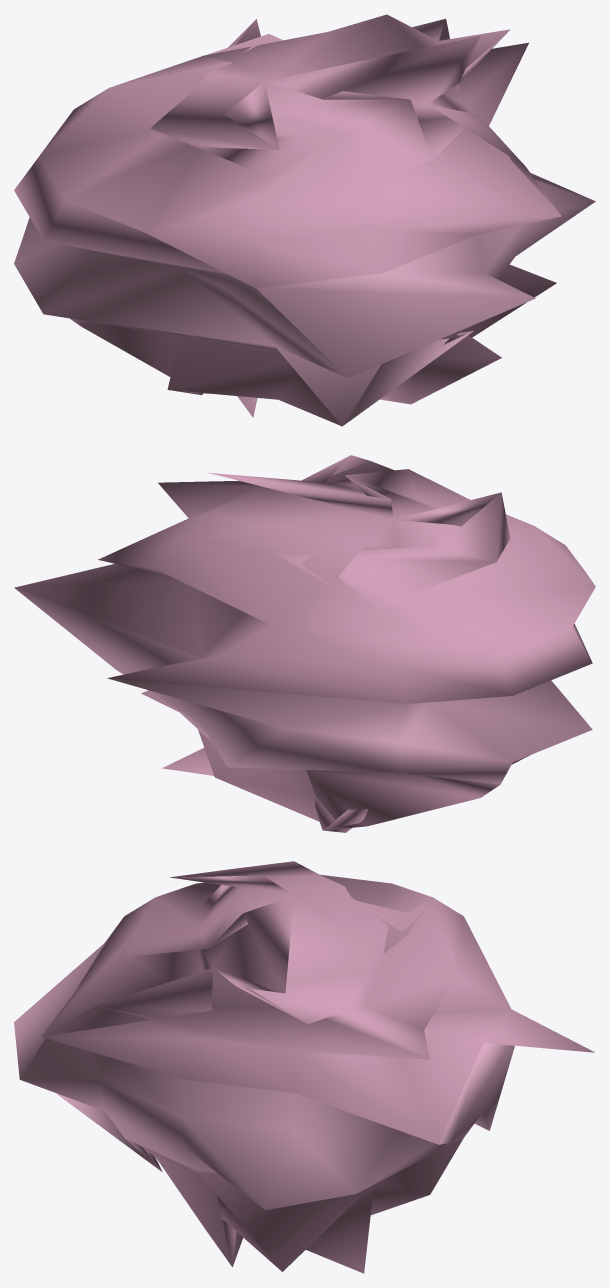
File: bush-82_col.fbx
The picture shows the model from 3 angles, top to bottom: view 1: azimuth 30°, elevation 25°; view 2: azimuth 150°, elevation 25°; view 3: azimuth 270°, elevation 25°; orthographic projection. The views are drawn at different scales.
Visible parts, largest first — view 1: bush-82.col; view 2: bush-82.col; view 3: bush-82.col.
Boxes of the visible parts, x1=… form: bush-82.col: x1=14, y1=14, x2=595, y2=426; bush-82.col: x1=14, y1=455, x2=595, y2=832; bush-82.col: x1=14, y1=861, x2=594, y2=1273.
Bounding box in the file's own units: 0.0769 × 0.0434 × 0.0742.
1 material, 1 textured.
